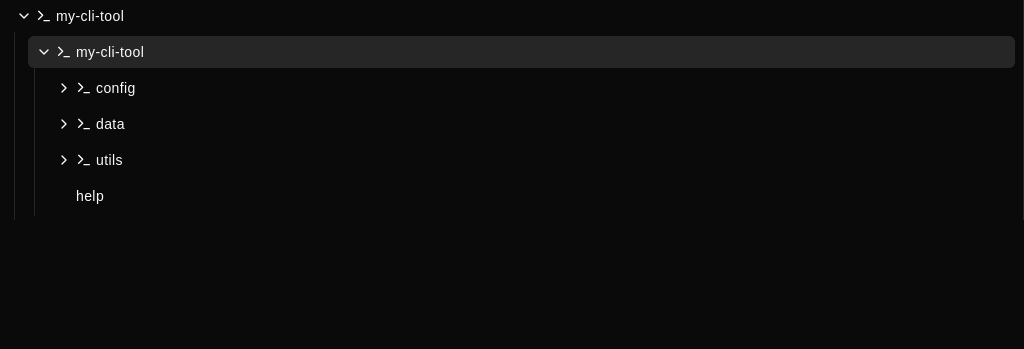
CommandTree › Command Tree Structure Tests › renders subcommands when parent is expanded
Click the 3rd button.
click(64, 88)  # box x1=56 y1=80 x2=72 y2=96
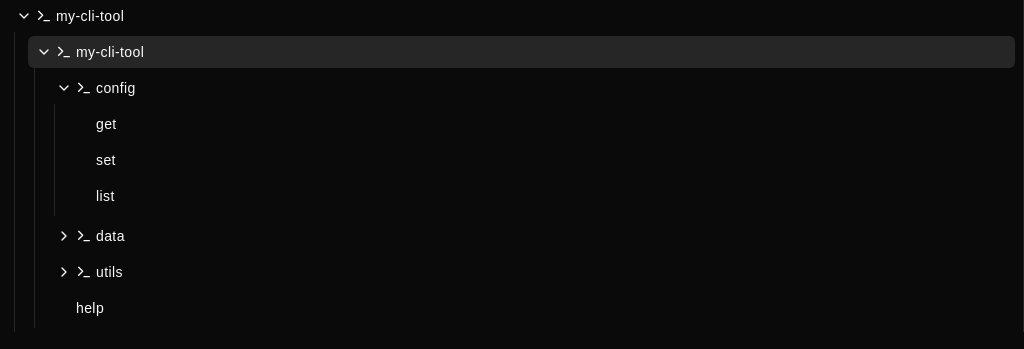
Check: the text "get" is shown, box x1=96 y1=116 x2=117 y2=132
Check: the text "set" is shown, box x1=96 y1=152 x2=116 y2=168
Check: the text "list" is shown, box x1=96 y1=188 x2=115 y2=204
